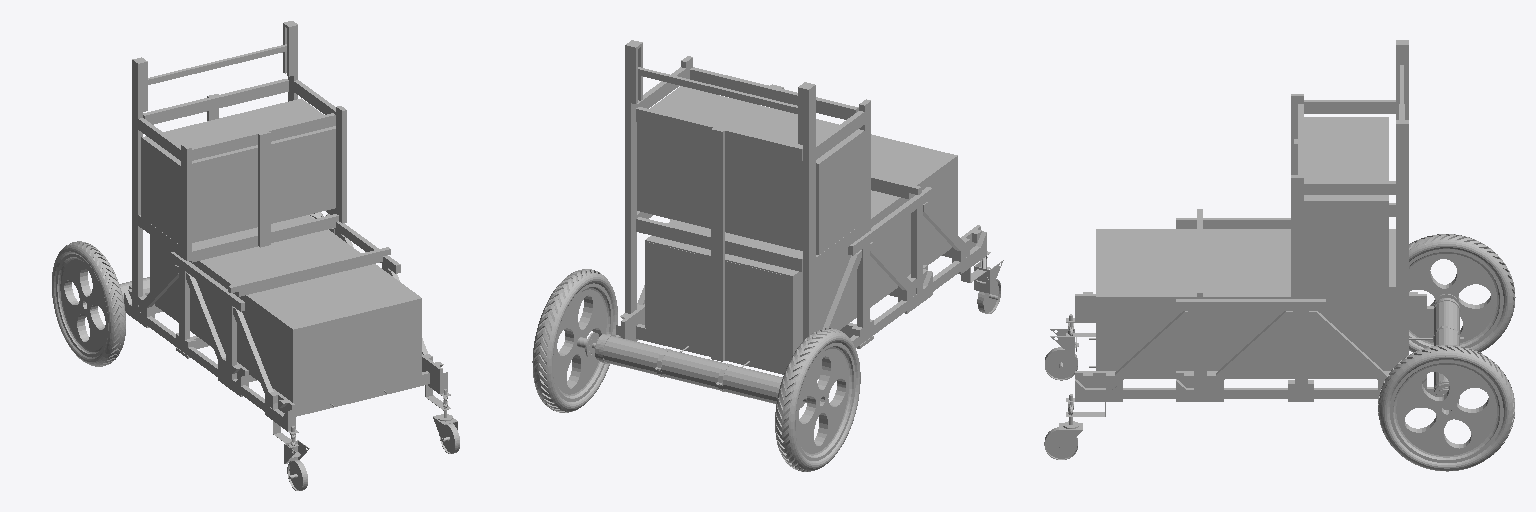
The robot description file, URDF, robot "IGV_Hope_final":
<?xml version="1.0" encoding="utf-8"?>
<!-- This URDF was automatically created by SolidWorks to URDF Exporter! Originally created by [author] ([email redacted]) 
     Commit Version: 1.5.1-0-g916b5db  Build Version: 1.5.7152.31018
     For more information, please see http://wiki.ros.org/sw_urdf_exporter -->
<robot
  name="IGV_Hope_final">
  <link
    name="base_link">
    <inertial>
      <origin
        xyz="0.611589957835898 -0.745532635426189 0.945939041022644"
        rpy="0 0 0" />
      <mass
        value="44.5648314822974" />
      <inertia
        ixx="2.4036532741308"
        ixy="-5.84742567718951E-10"
        ixz="7.74458451936004E-09"
        iyy="1.60700059119746"
        iyz="-0.00211279641365184"
        izz="3.24263574032278" />
    </inertial>
    <visual>
      <origin
        xyz="0 0 0"
        rpy="0 0 0" />
      <geometry>
        <mesh
          filename="package://IGV_Hope_final/meshes/base_link.STL" />
      </geometry>
      <material
        name="">
        <color
          rgba="0.752941176470588 0.752941176470588 0.752941176470588 1" />
      </material>
    </visual>
    <collision>
      <origin
        xyz="0 0 0"
        rpy="0 0 0" />
      <geometry>
        <mesh
          filename="package://IGV_Hope_final/meshes/base_link.STL" />
      </geometry>
    </collision>
  </link>
  <link
    name="wheel_R">
    <inertial>
      <origin
        xyz="1.01429821316842 -0.282974170069841 0.688295348424191"
        rpy="0 0 0" />
      <mass
        value="4.52967714432559" />
      <inertia
        ixx="0.123845078210674"
        ixy="-2.96811424171228E-08"
        ixz="-1.22629540793338E-08"
        iyy="0.0627748216659847"
        iyz="3.65641107668744E-07"
        izz="0.0627755805769735" />
    </inertial>
    <visual>
      <origin
        xyz="0 0 0"
        rpy="0 0 0" />
      <geometry>
        <mesh
          filename="package://IGV_Hope_final/meshes/wheel_R.STL" />
      </geometry>
      <material
        name="">
        <color
          rgba="0.752941176470588 0.752941176470588 0.752941176470588 1" />
      </material>
    </visual>
    <collision>
      <origin
        xyz="0 0 0"
        rpy="0 0 0" />
      <geometry>
        <mesh
          filename="package://IGV_Hope_final/meshes/wheel_R.STL" />
      </geometry>
    </collision>
  </link>
  <joint
    name="wheel_R"
    type="revolute">
    <origin
      xyz="0 0 0"
      rpy="0 0 0" />
    <parent
      link="base_link" />
    <child
      link="wheel_R" />
    <axis
      xyz="-1 0 0" />
    <limit
      lower="0"
      upper="0"
      effort="0"
      velocity="0" />
  </joint>
  <link
    name="wheel_L">
    <inertial>
      <origin
        xyz="0.208939444352116 -0.282971462341669 0.688293710452456"
        rpy="0 0 0" />
      <mass
        value="4.52967252160995" />
      <inertia
        ixx="0.12384573320679"
        ixy="-2.91634605290897E-09"
        ixz="3.19819432566958E-08"
        iyy="0.0627754451623574"
        iyz="5.20087182886419E-07"
        izz="0.0627756151894915" />
    </inertial>
    <visual>
      <origin
        xyz="0 0 0"
        rpy="0 0 0" />
      <geometry>
        <mesh
          filename="package://IGV_Hope_final/meshes/wheel_L.STL" />
      </geometry>
      <material
        name="">
        <color
          rgba="0.752941176470588 0.752941176470588 0.752941176470588 1" />
      </material>
    </visual>
    <collision>
      <origin
        xyz="0 0 0"
        rpy="0 0 0" />
      <geometry>
        <mesh
          filename="package://IGV_Hope_final/meshes/wheel_L.STL" />
      </geometry>
    </collision>
  </link>
  <joint
    name="wheel_L"
    type="revolute">
    <origin
      xyz="0 0 0"
      rpy="0 0 0" />
    <parent
      link="base_link" />
    <child
      link="wheel_L" />
    <axis
      xyz="-1 0 0" />
    <limit
      lower="0"
      upper="0"
      effort="0"
      velocity="0" />
  </joint>
  <link
    name="caster_R">
    <inertial>
      <origin
        xyz="0.901618828637683 -1.44092117493007 0.562279678724981"
        rpy="0 0 0" />
      <mass
        value="0.0230998988639432" />
      <inertia
        ixx="1.56673810680244E-05"
        ixy="1.80850202027094E-20"
        ixz="6.9701547563894E-21"
        iyy="1.69826688718332E-05"
        iyz="-3.30600166545721E-06"
        izz="1.85245559570427E-05" />
    </inertial>
    <visual>
      <origin
        xyz="0 0 0"
        rpy="0 0 0" />
      <geometry>
        <mesh
          filename="package://IGV_Hope_final/meshes/caster_R.STL" />
      </geometry>
      <material
        name="">
        <color
          rgba="0.752941176470588 0.752941176470588 0.752941176470588 1" />
      </material>
    </visual>
    <collision>
      <origin
        xyz="0 0 0"
        rpy="0 0 0" />
      <geometry>
        <mesh
          filename="package://IGV_Hope_final/meshes/caster_R.STL" />
      </geometry>
    </collision>
  </link>
  <joint
    name="caster_R"
    type="continuous">
    <origin
      xyz="0 0 0"
      rpy="0 0 0" />
    <parent
      link="base_link" />
    <child
      link="caster_R" />
    <axis
      xyz="0 0 -1" />
  </joint>
  <link
    name="caster_WR">
    <inertial>
      <origin
        xyz="0.901618828637683 -1.46535723709494 0.515338363641454"
        rpy="0 0 0" />
      <mass
        value="0.0583079596506258" />
      <inertia
        ixx="8.25510018398473E-05"
        ixy="5.70157941257323E-21"
        ixz="1.26878147034873E-22"
        iyy="4.38191437717802E-05"
        iyz="-2.87644518608692E-22"
        izz="4.38191437717802E-05" />
    </inertial>
    <visual>
      <origin
        xyz="0 0 0"
        rpy="0 0 0" />
      <geometry>
        <mesh
          filename="package://IGV_Hope_final/meshes/caster_WR.STL" />
      </geometry>
      <material
        name="">
        <color
          rgba="0.752941176470588 0.752941176470588 0.752941176470588 1" />
      </material>
    </visual>
    <collision>
      <origin
        xyz="0 0 0"
        rpy="0 0 0" />
      <geometry>
        <mesh
          filename="package://IGV_Hope_final/meshes/caster_WR.STL" />
      </geometry>
    </collision>
  </link>
  <joint
    name="caster_WR"
    type="continuous">
    <origin
      xyz="0 0 0"
      rpy="0 0 0" />
    <parent
      link="caster_R" />
    <child
      link="caster_WR" />
    <axis
      xyz="-1 0 0" />
  </joint>
  <link
    name="caster_L">
    <inertial>
      <origin
        xyz="0.321618828637683 -1.44091156462329 0.562279678724981"
        rpy="0 0 0" />
      <mass
        value="0.0230998988639432" />
      <inertia
        ixx="1.56673810680244E-05"
        ixy="1.32494575224175E-20"
        ixz="-8.56562928967032E-21"
        iyy="1.69826688718332E-05"
        iyz="-3.30600166545722E-06"
        izz="1.85245559570427E-05" />
    </inertial>
    <visual>
      <origin
        xyz="0 0 0"
        rpy="0 0 0" />
      <geometry>
        <mesh
          filename="package://IGV_Hope_final/meshes/caster_L.STL" />
      </geometry>
      <material
        name="">
        <color
          rgba="0.752941176470588 0.752941176470588 0.752941176470588 1" />
      </material>
    </visual>
    <collision>
      <origin
        xyz="0 0 0"
        rpy="0 0 0" />
      <geometry>
        <mesh
          filename="package://IGV_Hope_final/meshes/caster_L.STL" />
      </geometry>
    </collision>
  </link>
  <joint
    name="caster_L"
    type="continuous">
    <origin
      xyz="0 0 0"
      rpy="0 0 0" />
    <parent
      link="base_link" />
    <child
      link="caster_L" />
    <axis
      xyz="0 0 -1" />
  </joint>
  <link
    name="caster_WL">
    <inertial>
      <origin
        xyz="0.321618828637683 -1.46534762678815 0.515338363641454"
        rpy="0 0 0" />
      <mass
        value="0.0583079596506267" />
      <inertia
        ixx="8.25510018398484E-05"
        ixy="-3.24923804164372E-21"
        ixz="-4.42781316654474E-23"
        iyy="4.38191437717808E-05"
        iyz="2.74634195419452E-22"
        izz="4.38191437717808E-05" />
    </inertial>
    <visual>
      <origin
        xyz="0 0 0"
        rpy="0 0 0" />
      <geometry>
        <mesh
          filename="package://IGV_Hope_final/meshes/caster_WL.STL" />
      </geometry>
      <material
        name="">
        <color
          rgba="0.752941176470588 0.752941176470588 0.752941176470588 1" />
      </material>
    </visual>
    <collision>
      <origin
        xyz="0 0 0"
        rpy="0 0 0" />
      <geometry>
        <mesh
          filename="package://IGV_Hope_final/meshes/caster_WL.STL" />
      </geometry>
    </collision>
  </link>
  <joint
    name="caster_WL"
    type="continuous">
    <origin
      xyz="0 0 0"
      rpy="0 0 0" />
    <parent
      link="caster_L" />
    <child
      link="caster_WL" />
    <axis
      xyz="-1 0 0" />
  </joint>
</robot>

--- What the picture shows (computed from the rendered views, not written in the file) ---
The picture shows the robot from 3 angles, left to right: view 1: azimuth 30°, elevation 25°; view 2: azimuth 150°, elevation 25°; view 3: azimuth 270°, elevation 25°; orthographic projection.
Model IGV_Hope_final with 7 links and 6 joints (2 revolute, 4 continuous), rooted at base_link, posed every joint at zero.
Links seen in each view (by area): view 1: base_link, wheel_L; view 2: base_link, wheel_L, wheel_R; view 3: base_link, wheel_R, wheel_L, caster_WL, caster_WR.
Link boxes in pixels (x1,y1,x2,y2): base_link: [119, 21, 452, 457]; wheel_L: [52, 241, 125, 366]; base_link: [585, 40, 990, 407]; wheel_L: [775, 328, 860, 471]; wheel_R: [532, 269, 617, 412]; base_link: [1063, 40, 1463, 428]; wheel_R: [1378, 345, 1514, 471]; wheel_L: [1409, 234, 1515, 352]; caster_WL: [1045, 347, 1077, 380]; caster_WR: [1044, 427, 1077, 459].
Bounding box of the posed robot: 0.8691 × 1.45 × 1.14 m (x, y, z).
Meshes: 7 distinct files referenced, 7 mesh visuals loaded (7 binary STL).
